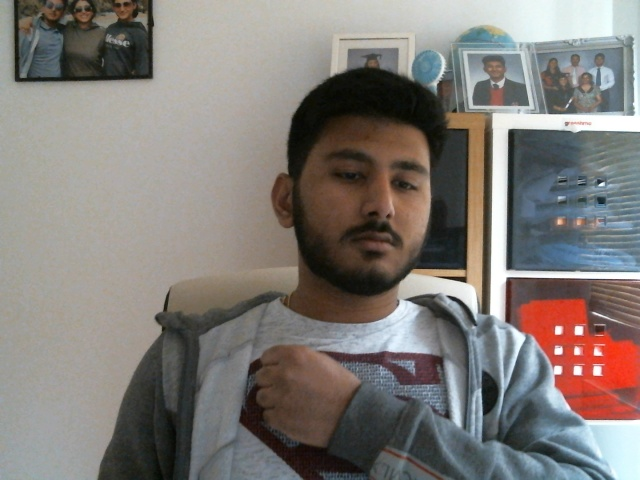morning: (255, 343, 346, 444)
